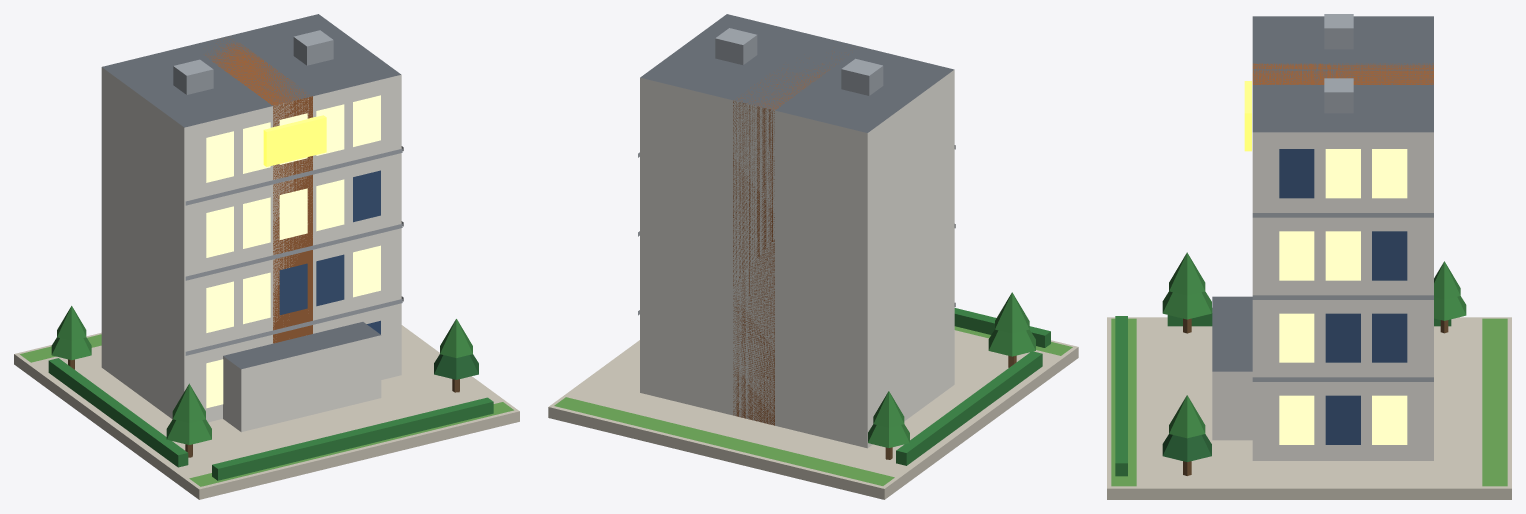
3 views of the same model, side by side, from view 1: azimuth 30°, elevation 25°; view 2: azimuth 150°, elevation 25°; view 3: azimuth 270°, elevation 25° (orthographic). The views are drawn at different scales.
Parts seen in each view (by area): view 1: b18; view 2: b18; view 3: b18.
Part boxes in pixels (x1,y1,x2,y2): b18: [14, 14, 519, 499]; b18: [548, 14, 1078, 499]; b18: [1107, 14, 1511, 499].
Bounding box in the file's own units: 0.96 × 0.945 × 0.96.
